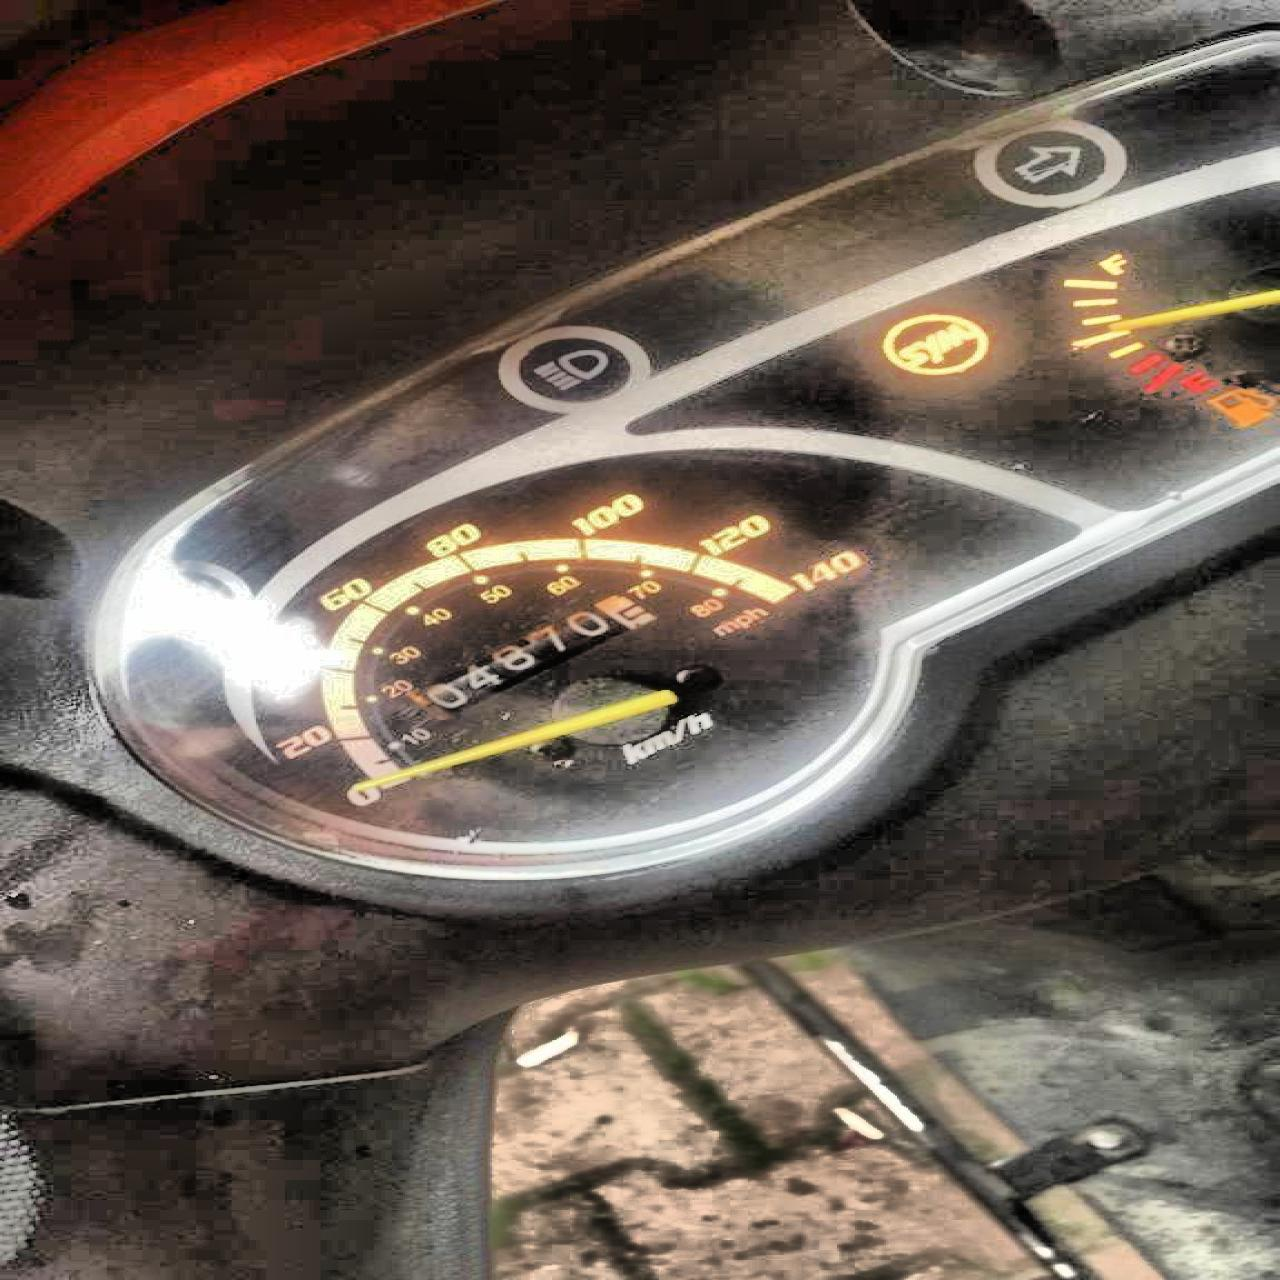0: (564, 607, 610, 641), (423, 682, 468, 708), (430, 606, 452, 619), (399, 644, 421, 656), (490, 584, 512, 595)
4: (458, 660, 503, 692), (418, 613, 438, 626)
5: (612, 604, 659, 627), (477, 588, 497, 602)
6: (545, 581, 564, 595)
7: (517, 624, 572, 653), (624, 584, 646, 599)
8: (488, 645, 537, 669)
odometer: (403, 586, 663, 713)
